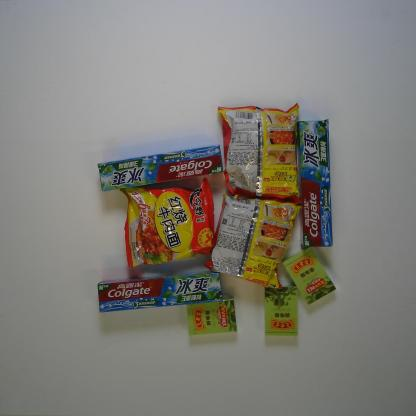Candy: (282, 246, 336, 306), (186, 296, 238, 336), (264, 286, 299, 336)
Instant Noodles: (203, 193, 301, 290), (119, 175, 216, 268), (217, 102, 301, 206)
Personal Hygiene: (97, 144, 224, 192), (96, 270, 224, 314), (295, 118, 334, 248)
